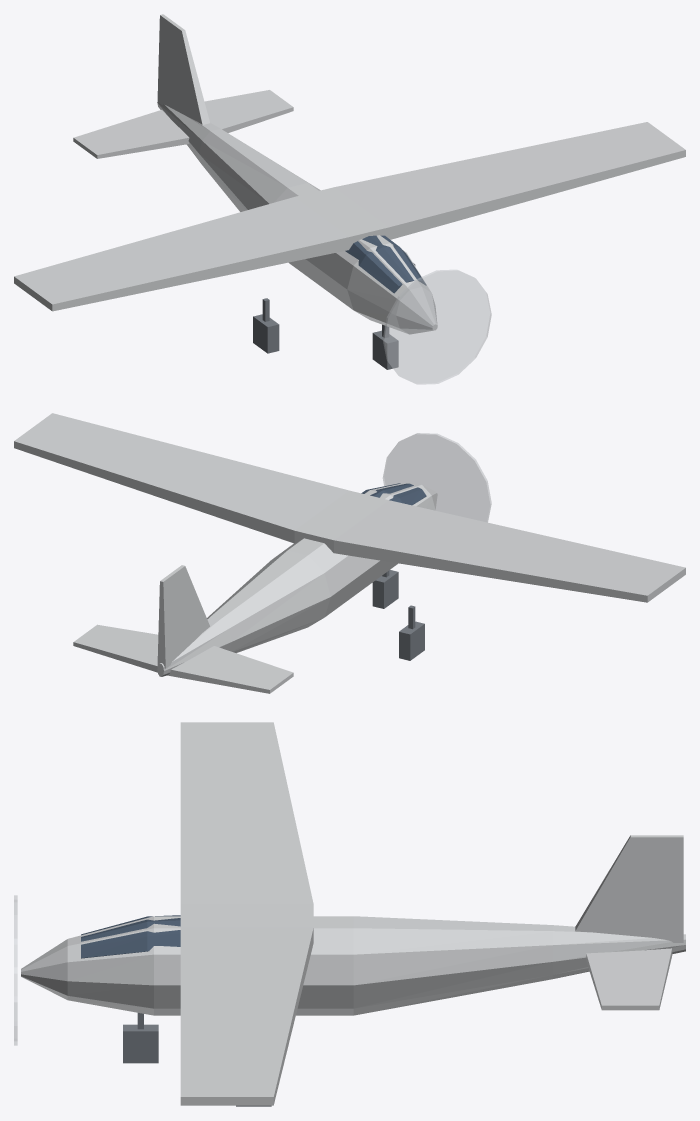
The model's file is ga-single-high.glb.
3 views of the same model, one above another, from view 1: azimuth 30°, elevation 25°; view 2: azimuth 150°, elevation 25°; view 3: azimuth 270°, elevation 25° (orthographic). The views are drawn at different scales.
Visible parts, largest first — view 1: ga-single-high; view 2: ga-single-high; view 3: ga-single-high.
Boxes of the visible parts, x1,y1,x2,y2 form: ga-single-high: (14, 14, 685, 384); ga-single-high: (14, 413, 685, 693); ga-single-high: (14, 722, 685, 1106).
Size of the model in its own units: 1 by 0.2787 by 0.758.
